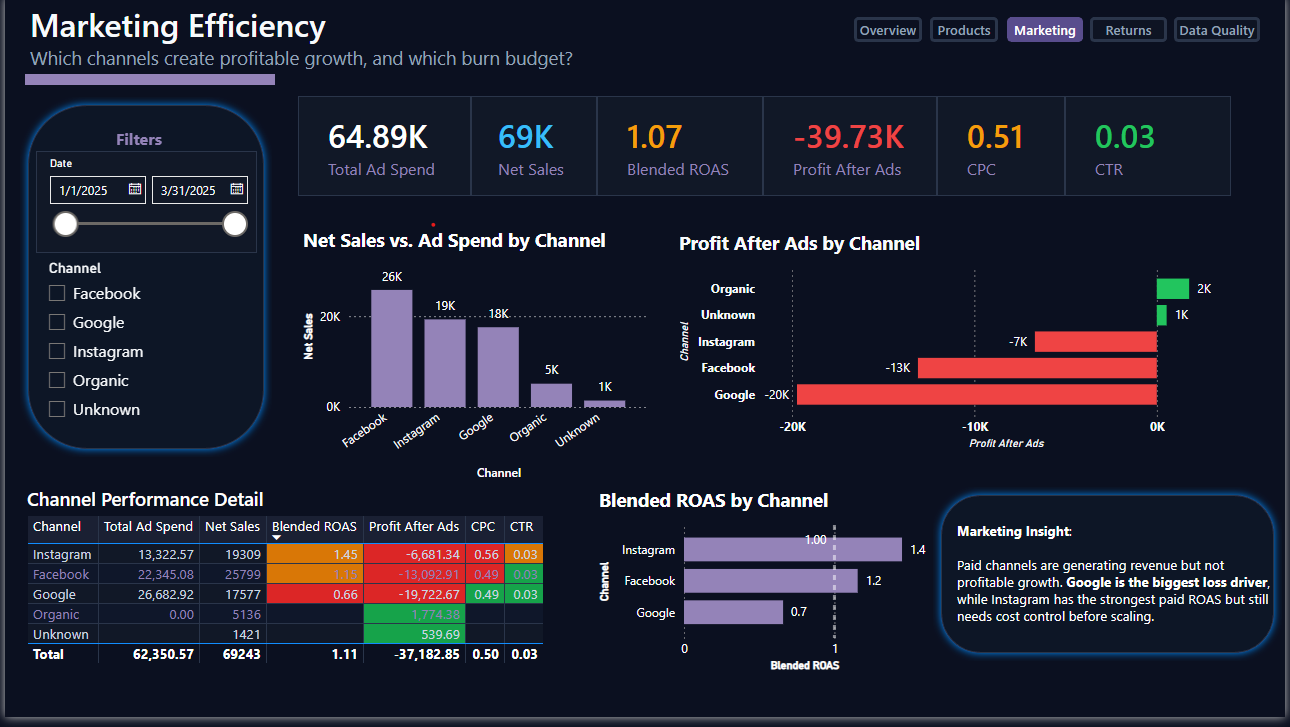

This screenshot's page, from the dashboard's own definition file:
{"tool":"powerbi","page":{"name":"Marketing ","canvas":[1280,720],"ordinal":2},"visuals":[{"type":"shape","box":[927.5,490.4,349,174],"z":0},{"type":"shape","box":[14.5,100,252.9,360],"z":1000},{"type":"textbox","box":[20,0,587.8,114.4],"z":2000},{"type":"cardVisual","fields":{"Data":["DAX.Total Ad Spend"]},"box":[293,98.5,172.7,100],"z":3000},{"type":"cardVisual","fields":{"Data":["DAX.Blended ROAS"]},"box":[591.7,98.5,166.5,100],"z":4000},{"type":"cardVisual","fields":{"Data":["DAX.Profit After Ads"]},"box":[758.2,98.5,174,100],"z":5000},{"type":"cardVisual","fields":{"Data":["DAX.CPC"]},"box":[932.2,98.5,127.5,100],"z":6000},{"type":"cardVisual","fields":{"Data":["DAX.CTR"]},"box":[1059.7,98.5,166.5,100],"z":7000},{"type":"clusteredColumnChart","title":"Net Sales vs. Ad Spend by Channel","fields":{"Category":["Dim_Channel.Channel"],"Y":["DAX.Net Sales"]},"box":[293.1,230,354.6,258.5],"z":8000},{"type":"clusteredBarChart","fields":{"Category":["Dim_Channel.Channel"],"Y":["DAX.Blended ROAS"]},"box":[588.6,490,341.4,188.6],"z":9000},{"type":"tableEx","title":"Channel Performance Detail","fields":{"Values":["Dim_Channel.Channel","DAX.Total Ad Spend","DAX.Net Sales","DAX.Blended ROAS","DAX.Profit After Ads","DAX.CPC","DAX.CTR"]},"box":[17.1,488.6,527.1,190],"z":10000},{"type":"textbox","box":[946.5,519.8,330,153.1],"z":11000},{"type":"shape","box":[20,76.7,250,11.7],"z":12000},{"type":"slicer","fields":{"Values":["Dim_date.Date"]},"box":[31.4,154,221,102],"z":13000},{"type":"slicer","fields":{"Values":["Dim_Channel.Channel"]},"box":[31.4,258,166,174],"z":14000},{"type":"textbox","box":[106.2,125.8,69.2,35],"z":15000},{"type":"cardVisual","fields":{"Data":["DAX.Net Sales"]},"box":[466.3,98.5,125.3,100],"z":16000},{"type":"actionButton","box":[849.2,20,67.7,25.4],"z":17000},{"type":"actionButton","box":[924.6,20,68.5,25.4],"z":18000},{"type":"actionButton","box":[1001.5,20,76.9,25.4],"z":19000},{"type":"actionButton","box":[1085,20,77.1,25],"z":20000},{"type":"actionButton","box":[1168.6,20,86.4,25],"z":21000},{"type":"clusteredBarChart","title":"Profit After Ads by Channel","fields":{"Y":["DAX.Profit After Ads"],"Category":["Dim_Channel.Channel"]},"box":[668.6,232.9,587.1,224.3],"z":22000}]}

Visuals, with their boxes in screenshot pixels (x1, y1, x2, y2), scaled from the page's 1280x720 canvas onto the 1290x727 screenshot:
shape: 935,495,1286,671
shape: 15,101,269,464
textbox: 20,0,613,116
cardVisual - DAX.Total Ad Spend: 295,99,469,200
cardVisual - DAX.Blended ROAS: 596,99,764,200
cardVisual - DAX.Profit After Ads: 764,99,939,200
cardVisual - DAX.CPC: 939,99,1068,200
cardVisual - DAX.CTR: 1068,99,1236,200
"Net Sales vs. Ad Spend by Channel" clusteredColumnChart: 295,232,653,493
clusteredBarChart - Dim_Channel.Channel x DAX.Blended ROAS: 593,495,937,685
"Channel Performance Detail" tableEx: 17,493,548,685
textbox: 954,525,1286,679
shape: 20,77,272,89
slicer - Dim_date.Date: 32,155,254,258
slicer - Dim_Channel.Channel: 32,261,199,436
textbox: 107,127,177,162
cardVisual - DAX.Net Sales: 470,99,596,200
actionButton: 856,20,924,46
actionButton: 932,20,1001,46
actionButton: 1009,20,1087,46
actionButton: 1093,20,1171,45
actionButton: 1178,20,1265,45
"Profit After Ads by Channel" clusteredBarChart: 674,235,1266,462
